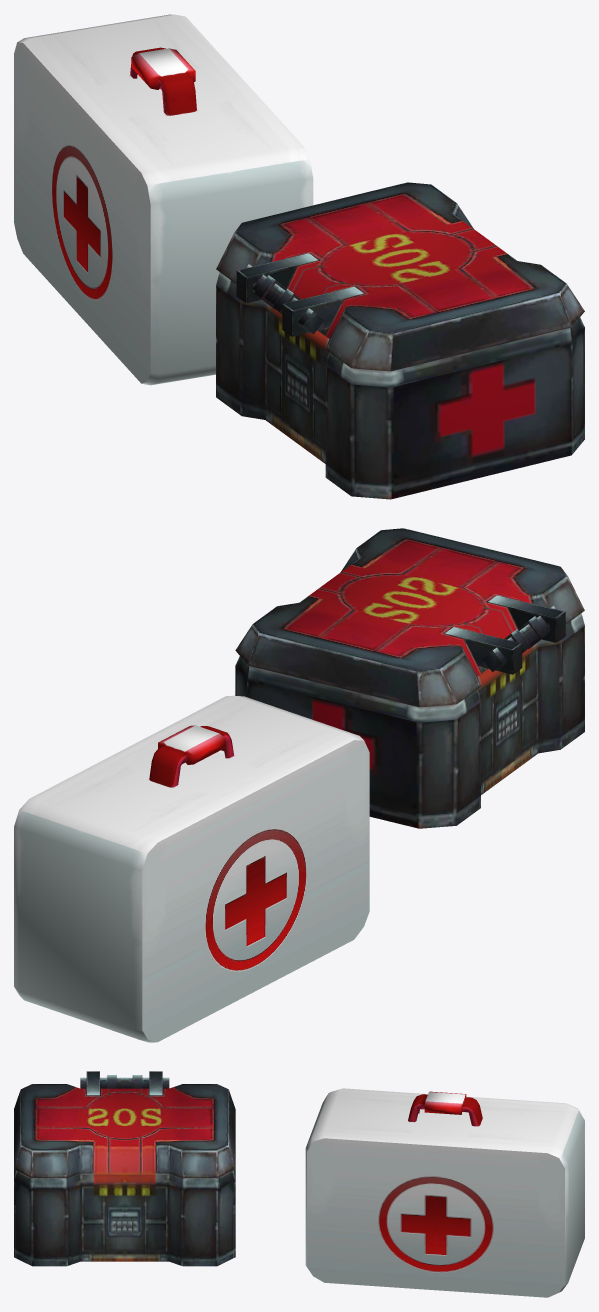
The model's file is sos.FBX.
3 views of the same model, one above another, from view 1: azimuth 30°, elevation 25°; view 2: azimuth 150°, elevation 25°; view 3: azimuth 270°, elevation 25° (orthographic). The views are drawn at different scales.
Visible parts, largest first — view 1: C_Supplytank, shizhijia_01; view 2: shizhijia_01, C_Supplytank; view 3: shizhijia_01, C_Supplytank.
Part boxes in pixels (x1,y1,x2,y2): C_Supplytank: (216, 182, 584, 499); shizhijia_01: (14, 14, 313, 385); shizhijia_01: (14, 695, 369, 1042); C_Supplytank: (235, 528, 584, 828); shizhijia_01: (305, 1088, 584, 1297); C_Supplytank: (14, 1071, 235, 1266).
Size of the model in its own units: 1.75 by 1.62 by 4.97.
Materials: 2 (2 with a texture image).
